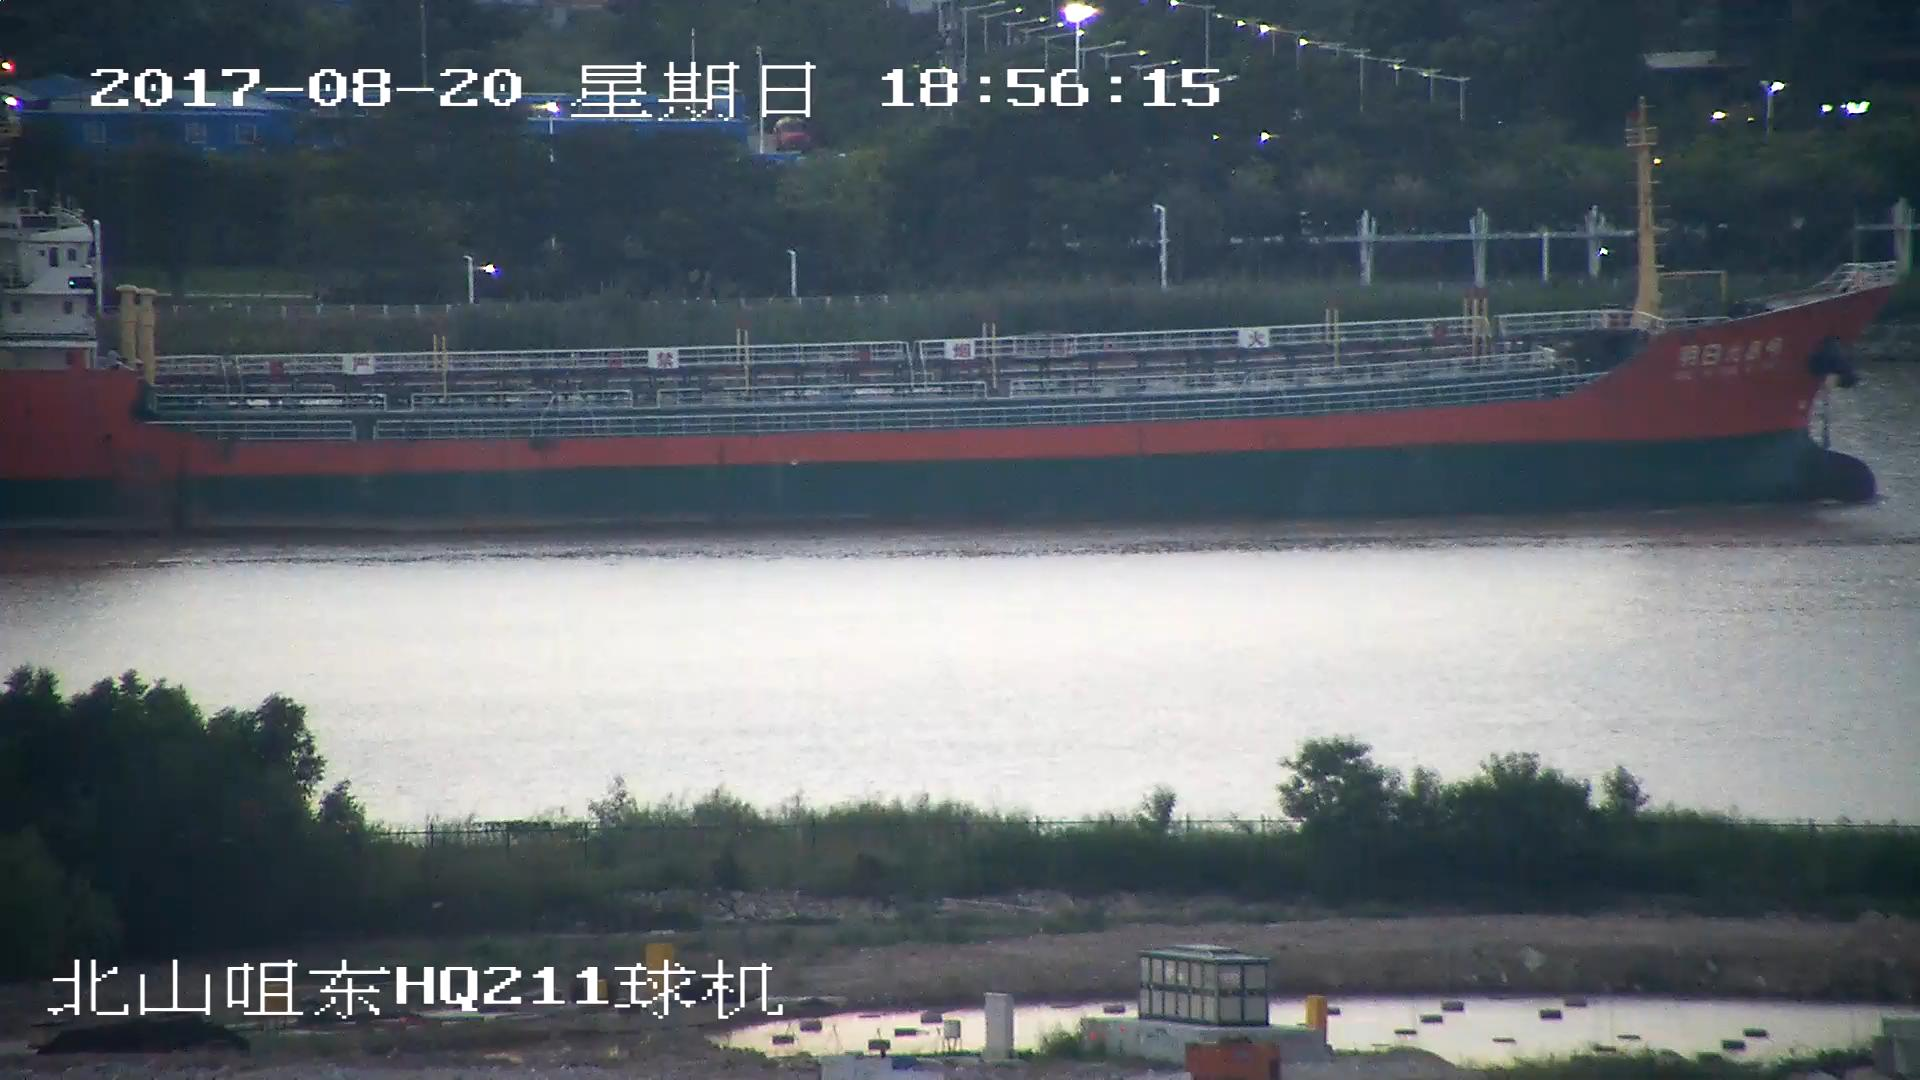general cargo ship: (1, 116, 1907, 516)
